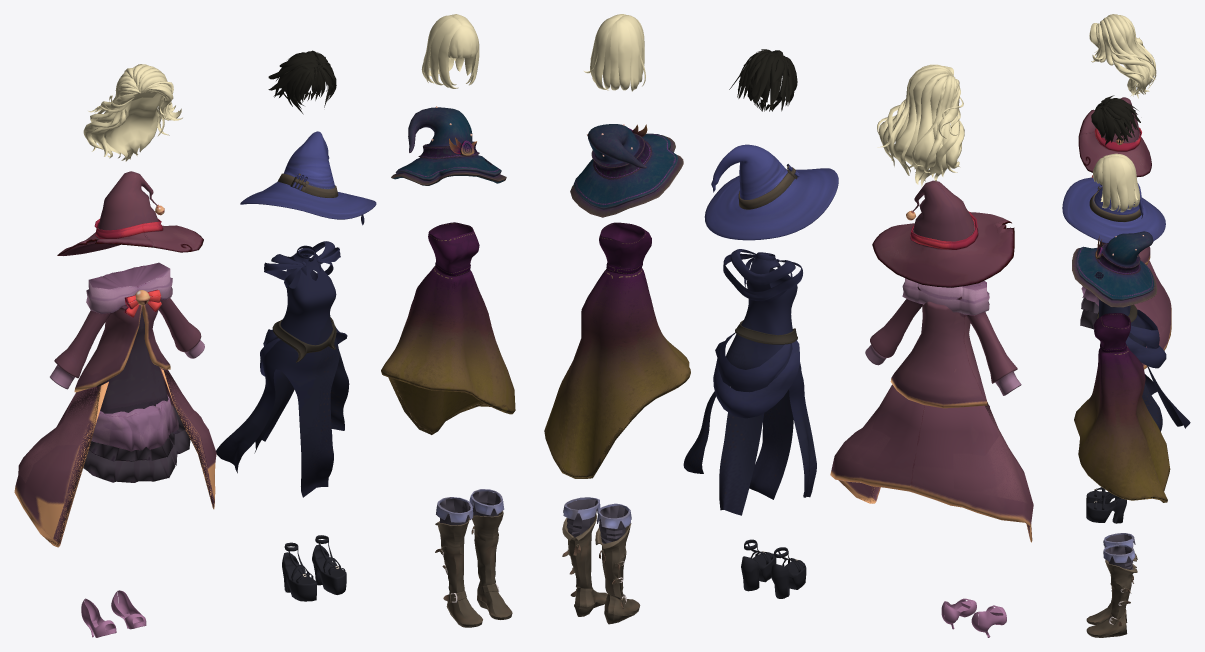
The model's file is WitchItems.fbx.
The picture shows the model from 3 angles, left to right: view 1: azimuth 30°, elevation 25°; view 2: azimuth 150°, elevation 25°; view 3: azimuth 270°, elevation 25°; orthographic projection. The views are drawn at different scales.
Parts seen in each view (by area): view 1: Witch1, Witch3-Main, Witch2, Shoes3, Hair4, Witch1-Hat, Witch2-Hat, Witch3-Hat, Hair6, Shoes2, Hair1, Shoes1; view 2: Witch1, Witch2, Witch3-Main, Witch1-Hat, Witch2-Hat, Witch3-Hat, Hair4, Shoes3, Hair6, Hair1, Shoes2, Shoes1; view 3: Witch3-Main, Witch3-Hat, Witch2-Hat, Hair4, Shoes3, Witch2, Witch1-Hat, Hair6, Witch1, Hair1, Shoes2.
Boxes of the visible parts, <box> form: Witch1: <box>14,262,216,547</box>; Witch3-Main: <box>381,222,515,434</box>; Witch2: <box>216,241,349,497</box>; Shoes3: <box>435,489,512,627</box>; Hair4: <box>83,64,182,161</box>; Witch1-Hat: <box>57,171,203,255</box>; Witch2-Hat: <box>240,131,376,225</box>; Witch3-Hat: <box>391,106,506,185</box>; Hair6: <box>421,14,479,88</box>; Shoes2: <box>282,535,346,601</box>; Hair1: <box>268,50,336,114</box>; Shoes1: <box>81,590,146,637</box>; Witch1: <box>830,278,1033,542</box>; Witch2: <box>683,249,816,515</box>; Witch3-Main: <box>544,222,690,478</box>; Witch1-Hat: <box>872,180,1014,287</box>; Witch2-Hat: <box>704,144,838,240</box>; Witch3-Hat: <box>570,124,683,217</box>; Hair4: <box>877,64,964,186</box>; Shoes3: <box>562,497,640,624</box>; Hair6: <box>584,14,645,91</box>; Hair1: <box>729,49,797,111</box>; Shoes2: <box>741,539,806,598</box>; Shoes1: <box>941,598,1006,637</box>; Witch3-Main: <box>1074,313,1170,502</box>; Witch3-Hat: <box>1072,231,1157,307</box>; Witch2-Hat: <box>1062,177,1165,243</box>; Hair4: <box>1089,14,1156,98</box>; Shoes3: <box>1086,533,1137,637</box>; Witch2: <box>1097,299,1190,431</box>; Witch1-Hat: <box>1078,97,1151,177</box>; Hair6: <box>1093,153,1140,212</box>; Witch1: <box>1080,175,1171,369</box>; Hair1: <box>1091,95,1140,145</box>; Shoes2: <box>1086,487,1126,523</box>.
Size of the model in its own units: 183 by 226 by 53.96.
